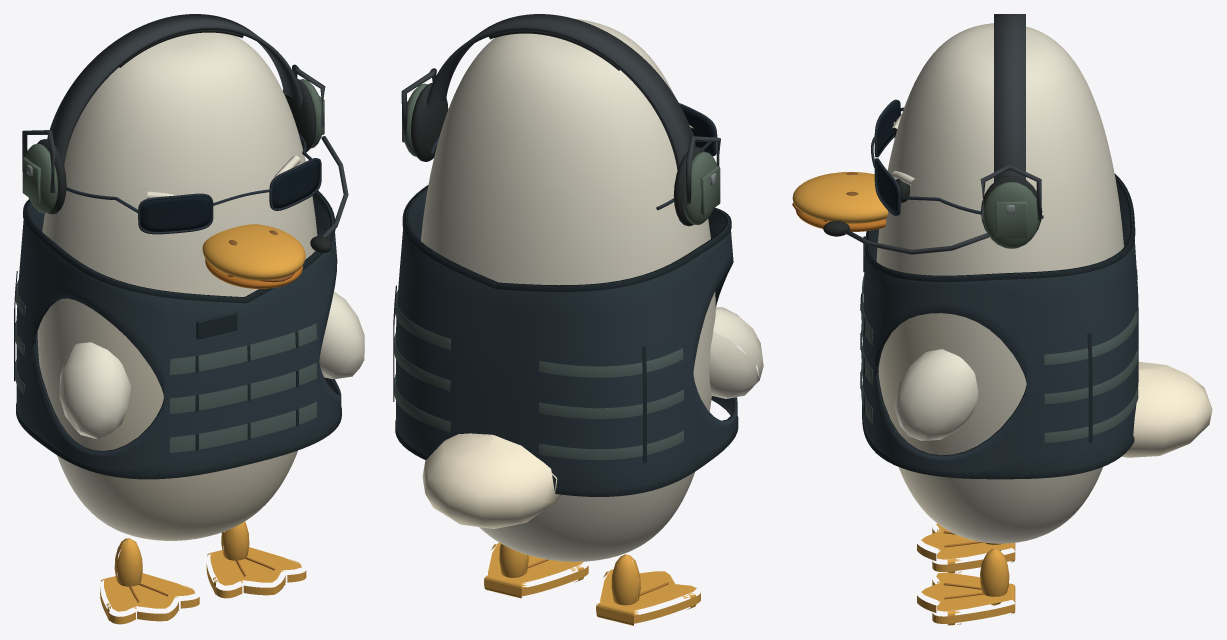
Rendered from goose-face-combo-character.glb.
The picture shows the model from 3 angles, left to right: view 1: azimuth 30°, elevation 25°; view 2: azimuth 150°, elevation 25°; view 3: azimuth 270°, elevation 25°; orthographic projection. The views are drawn at different scales.
Visible parts, largest first — view 1: goose_torso_mesh, goose_vest_refined_mesh, goose_face_headset_mesh, goose_leftArm_mesh, goose_beak_mesh, goose_face_sunglasses_mesh, goose_leftFoot_mesh, goose_rightFoot_mesh, goose_rightArm_mesh; view 2: goose_vest_refined_mesh, goose_torso_mesh, goose_face_headset_mesh, goose_tail_mesh, goose_leftFoot_mesh, goose_leftArm_mesh, goose_rightFoot_mesh, goose_face_sunglasses_mesh; view 3: goose_torso_mesh, goose_vest_refined_mesh, goose_face_headset_mesh, goose_rightArm_mesh, goose_tail_mesh, goose_beak_mesh, goose_rightFoot_mesh, goose_face_sunglasses_mesh, goose_leftFoot_mesh.
Boxes of the visible parts, x1,y1,x2,y2 form: goose_torso_mesh: (37, 32, 317, 540); goose_vest_refined_mesh: (14, 190, 341, 479); goose_face_headset_mesh: (22, 14, 348, 252); goose_leftArm_mesh: (59, 342, 130, 438); goose_beak_mesh: (202, 224, 305, 288); goose_face_sunglasses_mesh: (66, 134, 321, 234); goose_leftFoot_mesh: (100, 538, 199, 624); goose_rightFoot_mesh: (206, 521, 306, 598); goose_rightArm_mesh: (319, 291, 364, 378); goose_vest_refined_mesh: (393, 185, 738, 496); goose_torso_mesh: (421, 18, 715, 561); goose_face_headset_mesh: (401, 14, 720, 226); goose_tail_mesh: (422, 433, 561, 528); goose_leftFoot_mesh: (596, 554, 700, 625); goose_leftArm_mesh: (709, 307, 763, 398); goose_rightFoot_mesh: (484, 542, 588, 598); goose_face_sunglasses_mesh: (430, 103, 717, 210); goose_torso_mesh: (876, 23, 1123, 543); goose_vest_refined_mesh: (860, 174, 1138, 479); goose_face_headset_mesh: (823, 14, 1042, 254); goose_rightArm_mesh: (894, 349, 978, 440); goose_tail_mesh: (1122, 362, 1212, 457); goose_beak_mesh: (792, 172, 887, 231); goose_rightFoot_mesh: (917, 549, 1015, 625); goose_face_sunglasses_mesh: (871, 99, 1043, 218); goose_leftFoot_mesh: (917, 523, 1015, 573).
Size of the model in its own units: 1.1 by 1.99 by 1.37.
